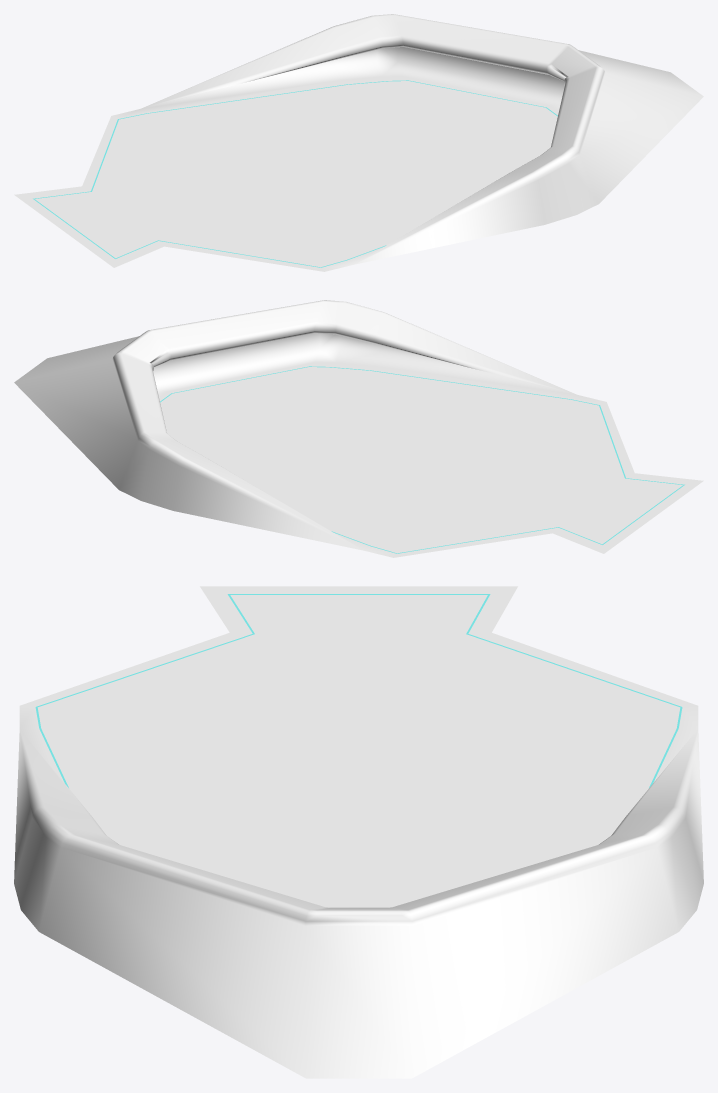
Rendered from Bridge_Floor_Mesh.fbx.
3 views of the same model, one above another, from view 1: azimuth 30°, elevation 25°; view 2: azimuth 150°, elevation 25°; view 3: azimuth 270°, elevation 25° (orthographic). The views are drawn at different scales.
Parts seen in each view (by area): view 1: Bridge_Floor_Mesh; view 2: Bridge_Floor_Mesh; view 3: Bridge_Floor_Mesh.
Part boxes in pixels (left/top/right/bottom): Bridge_Floor_Mesh: left=14, top=14, right=703, bottom=271; Bridge_Floor_Mesh: left=14, top=300, right=703, bottom=557; Bridge_Floor_Mesh: left=14, top=586, right=703, bottom=1078.
Bounding box in the file's own units: 6435 × 536 × 3874.
